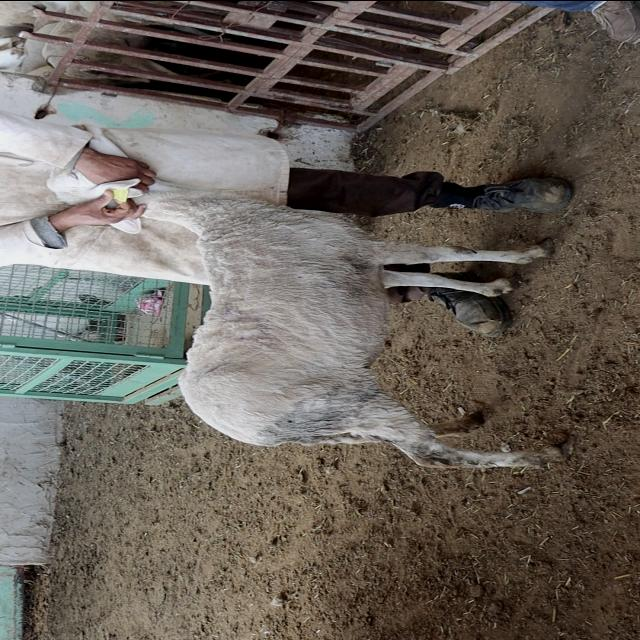Score_1: (47, 169, 560, 467)
